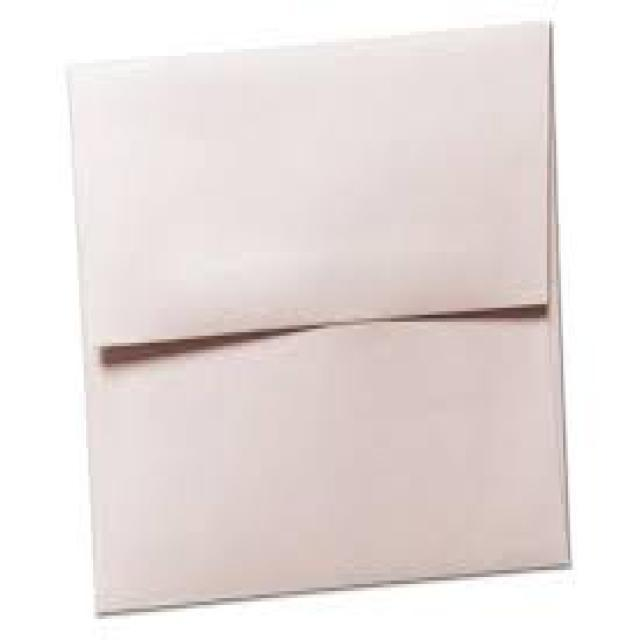trashbin: (65, 18, 573, 616)
